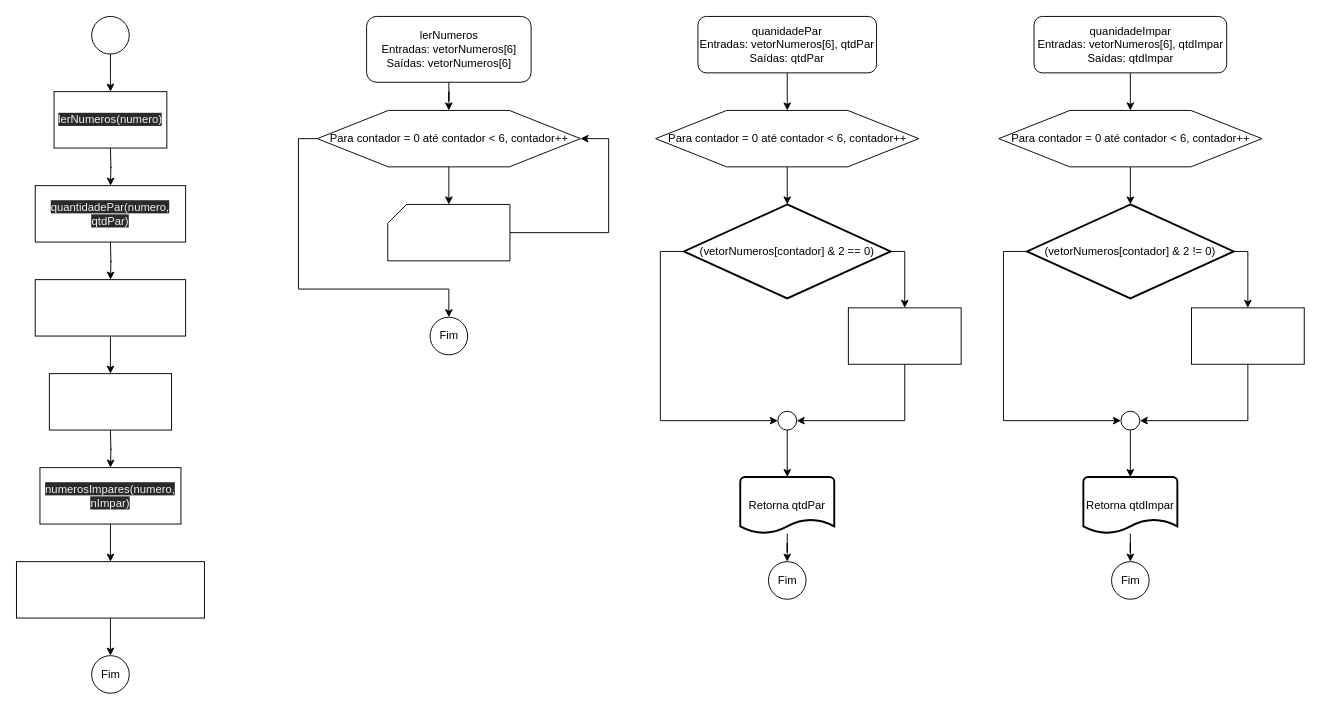
Some shapes in this 1321 by 710 pixel diagram are drawn without their labels. The shapes that lost their labels are listed below. From the top down, each one's centre as x and y in pixels, then its label:
the point at 110,35: Início
the point at 448,232: vetorNumeros[contador]
the point at 110,307: quantidadeImpar(numero, qtdImpar)
the point at 904,335: qtdPar++
the point at 1247,335: qtdImpar++
the point at 110,401: numerosPares(numero, nPar)
the point at 110,589: imprimirResultados(quantidadePar, numerosPar, quantidadeImpar, numerosImpar)
